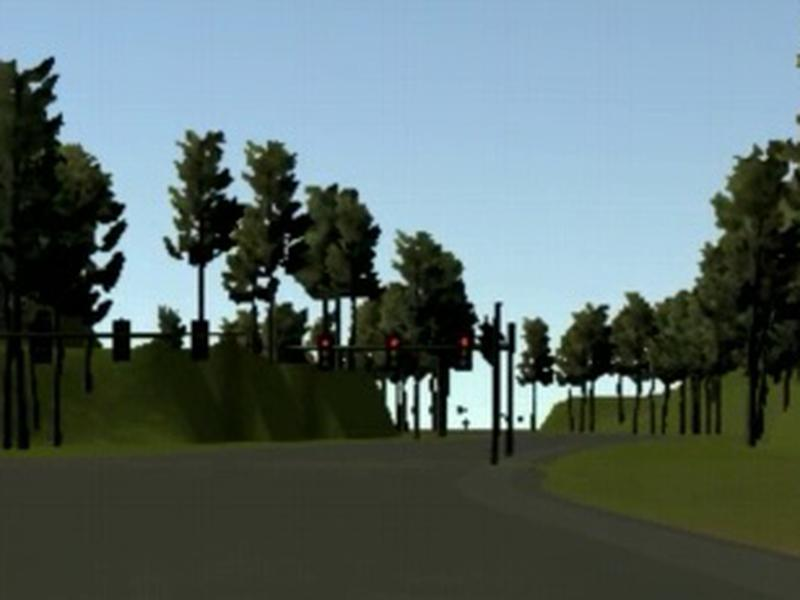Red: (387, 337, 405, 373), (457, 336, 471, 372), (317, 337, 332, 370)
